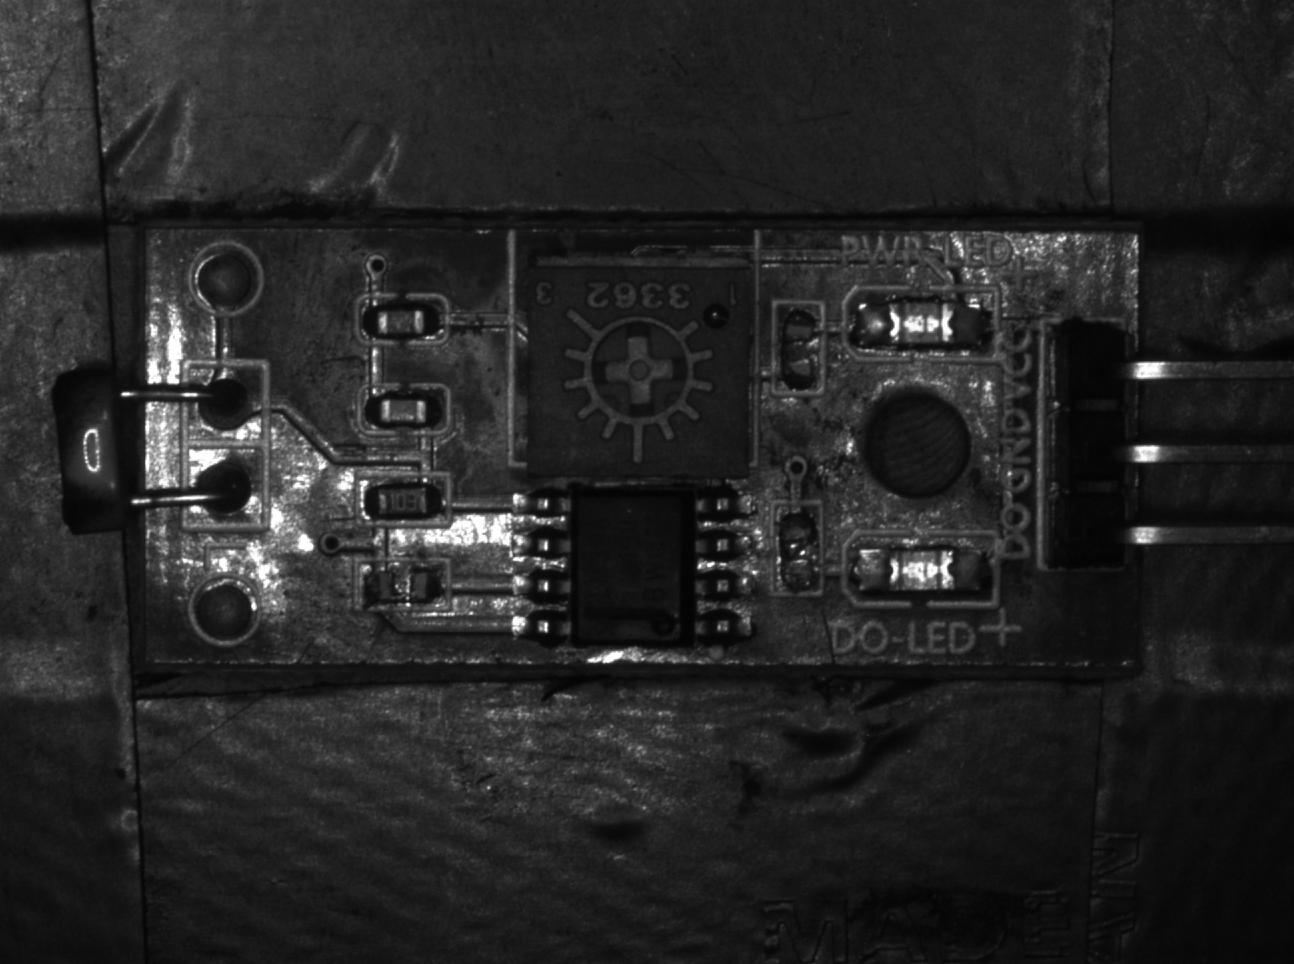miss: (356, 553, 450, 613), (774, 498, 824, 600), (775, 298, 824, 396)
ok: (358, 470, 456, 528), (354, 290, 448, 346), (356, 384, 450, 438)
